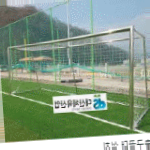goals: (7, 24, 149, 133)
